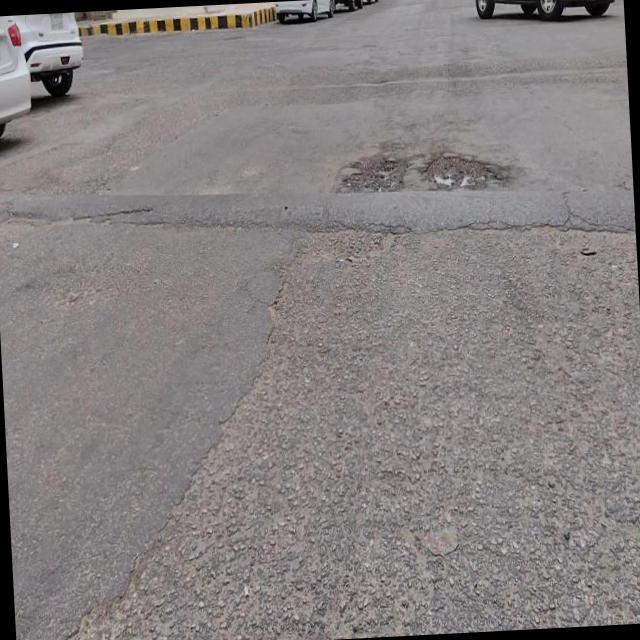Pothole: (421, 153, 498, 192), (342, 150, 408, 193)
